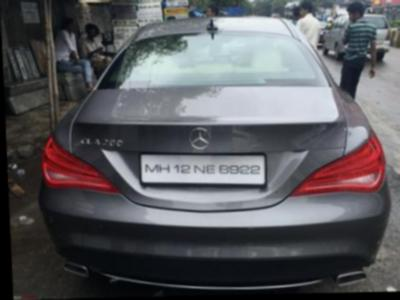License_Plate: (139, 150, 268, 188)
